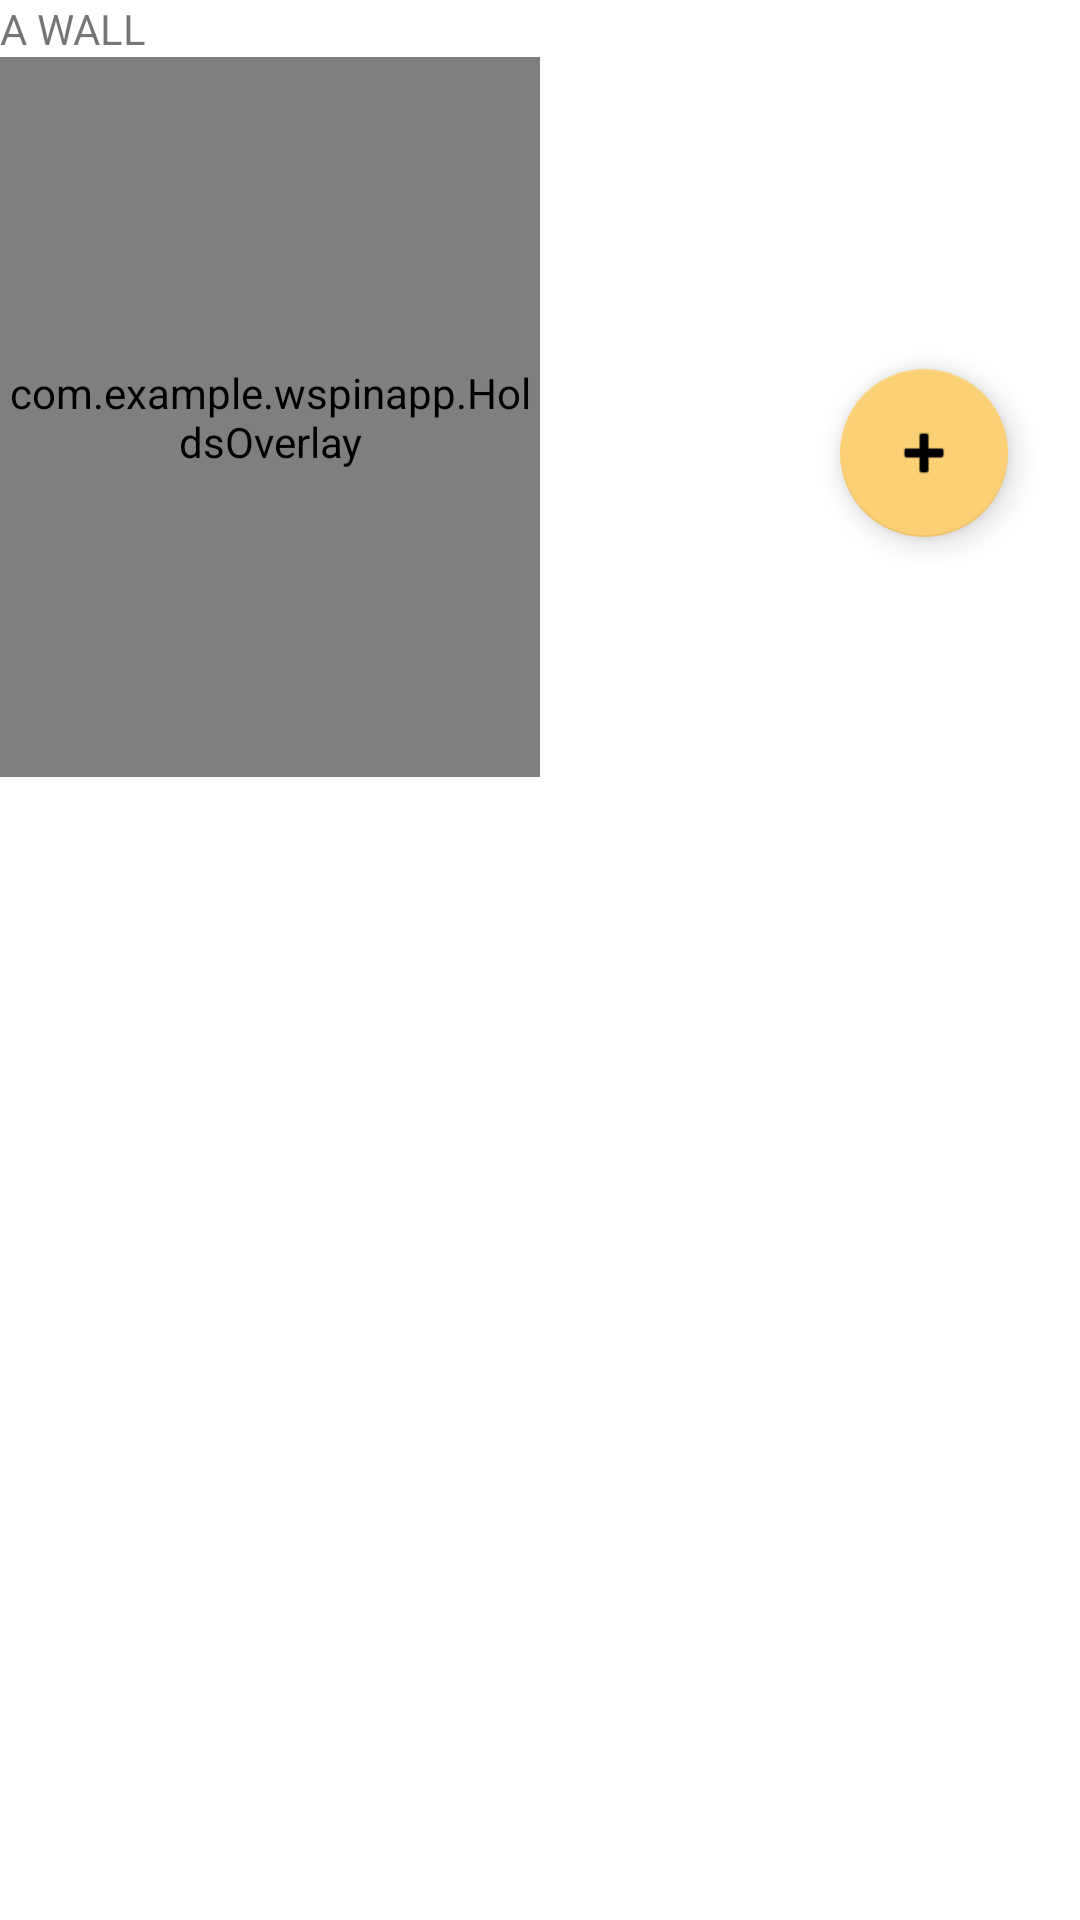

Icon bounding boxes for this 1080x1920 phone screenshot, format (x1, y1, x2, y2):
add: (840, 369, 1008, 537)
